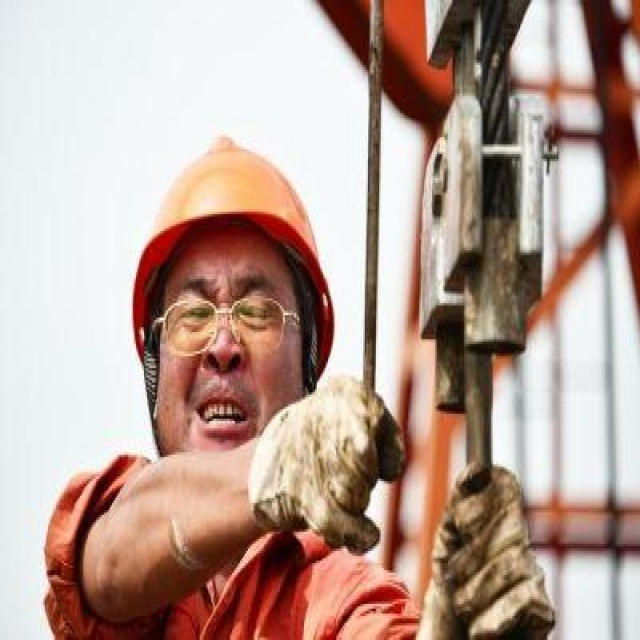Helmet: (118, 106, 351, 516)
Reflective vest: (33, 455, 432, 640)
